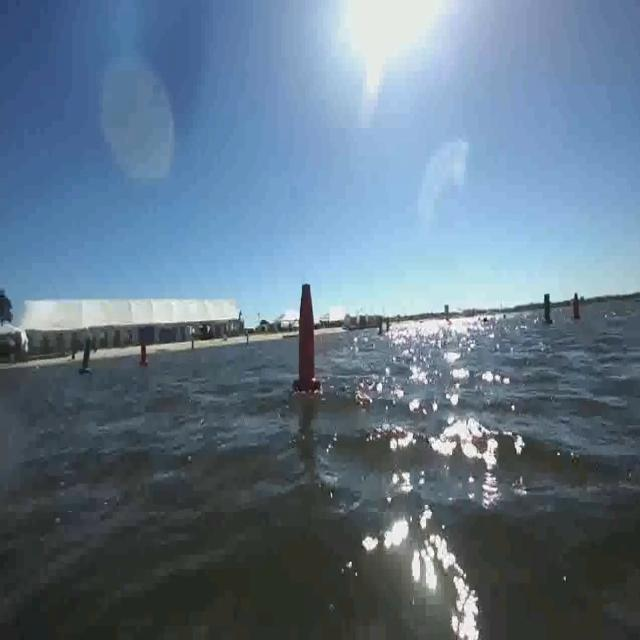green-column-buoy: (78, 335, 94, 376), (543, 291, 555, 323)
red-column-buoy: (292, 280, 321, 398), (569, 292, 581, 320), (139, 341, 149, 368)
